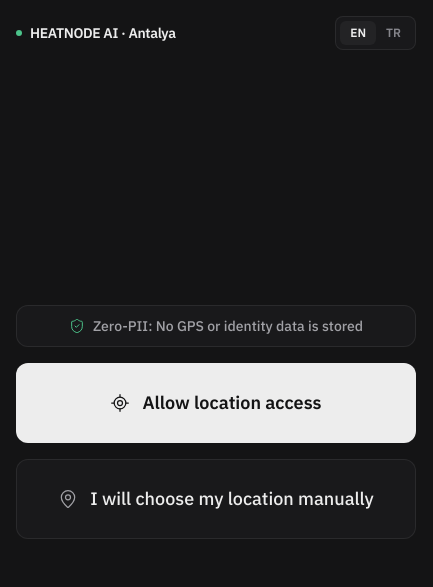
Test: Heatnode PWA Flow › blocks S03 without valid coordinates and stays on S01 on GPS deny
Expected: the text "Allow location access" is shown, [142, 389, 322, 417]
Click the button "Allow location access" at [216, 403], box [16, 363, 416, 443]
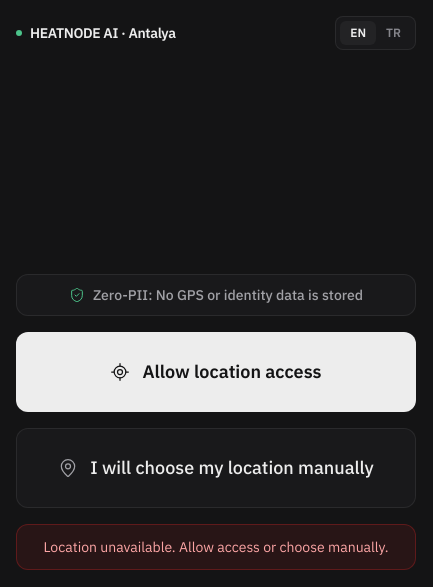
Expected: the text "Allow location access" is shown, [142, 358, 322, 386]
Expected: the message "Location unavailable. Allow access or choose manually." is shown, [16, 524, 416, 570]
